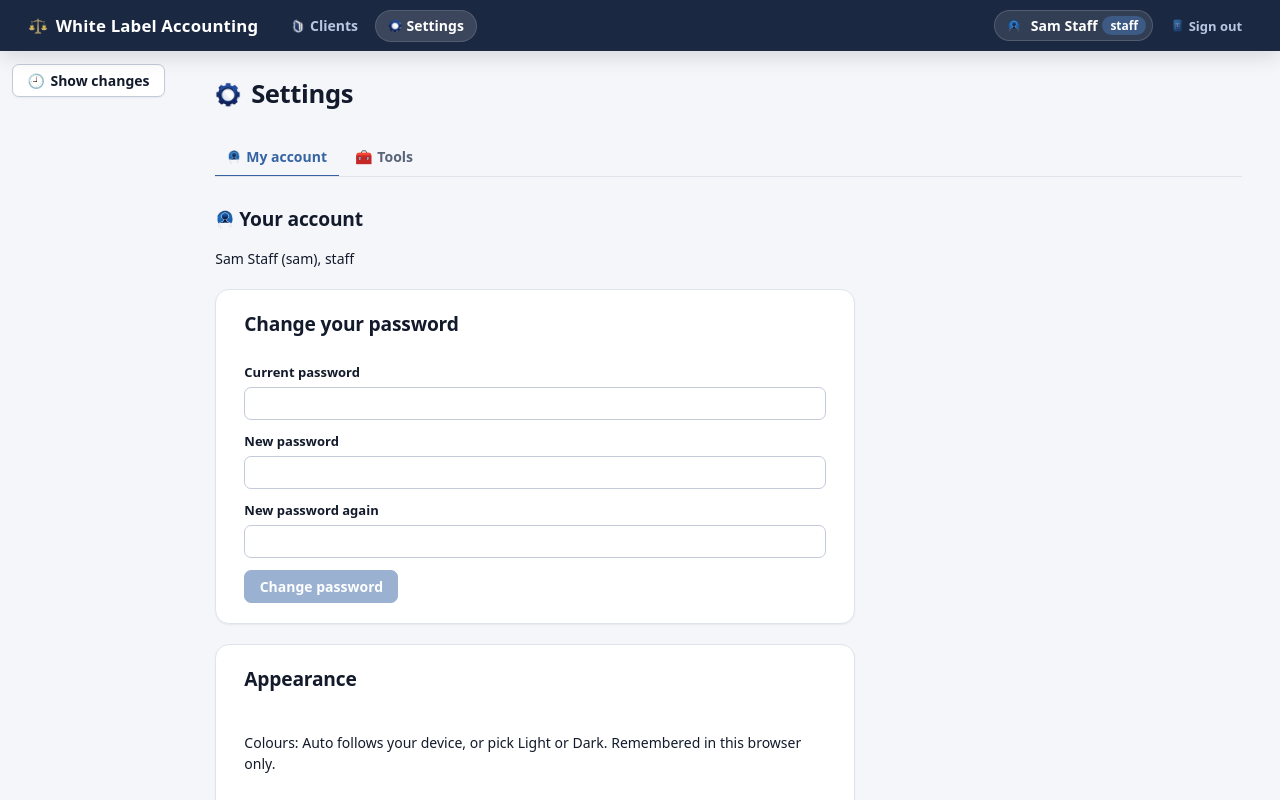
Test: an ended session › drops back to the sign-in page
Type "x" into the password field labelled "Current password" at x=535, y=403, box [244, 387, 826, 420]
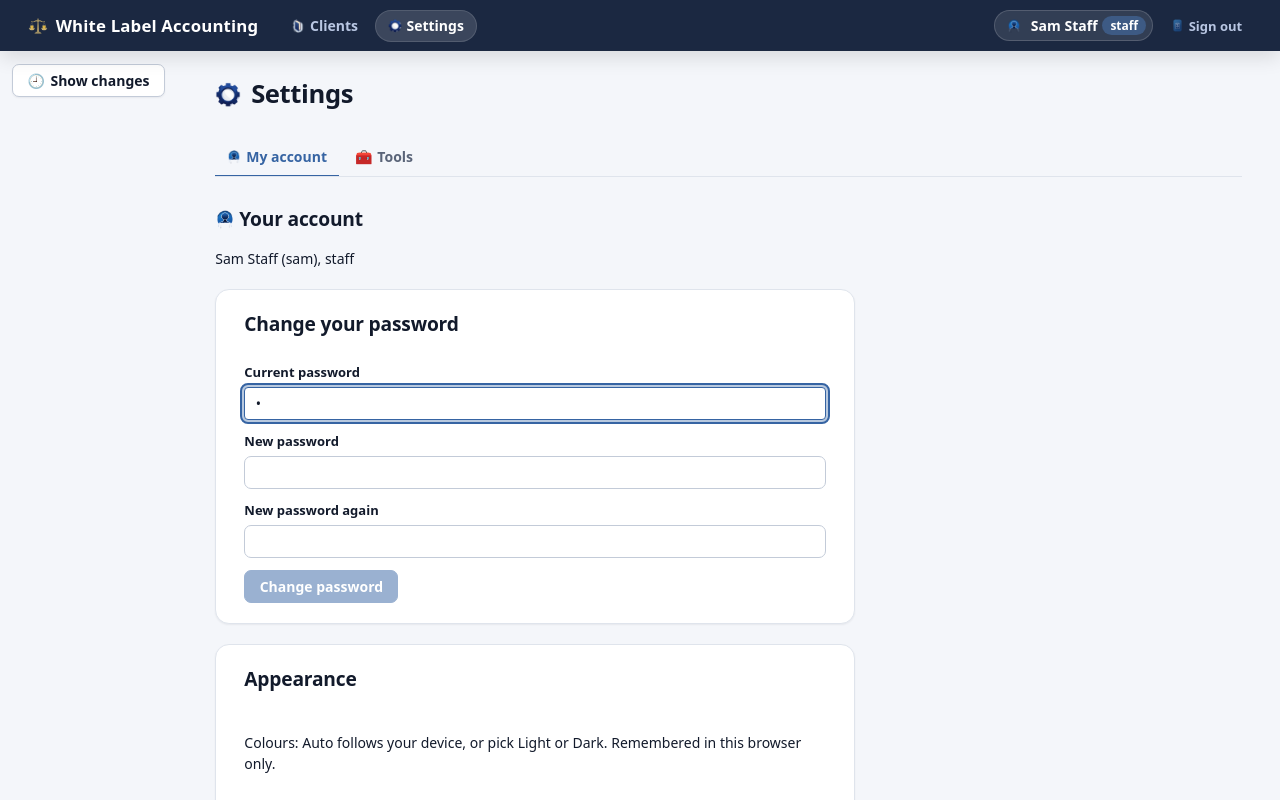
Type "y" into the password field labelled "New password" at x=535, y=473, box [244, 456, 826, 489]
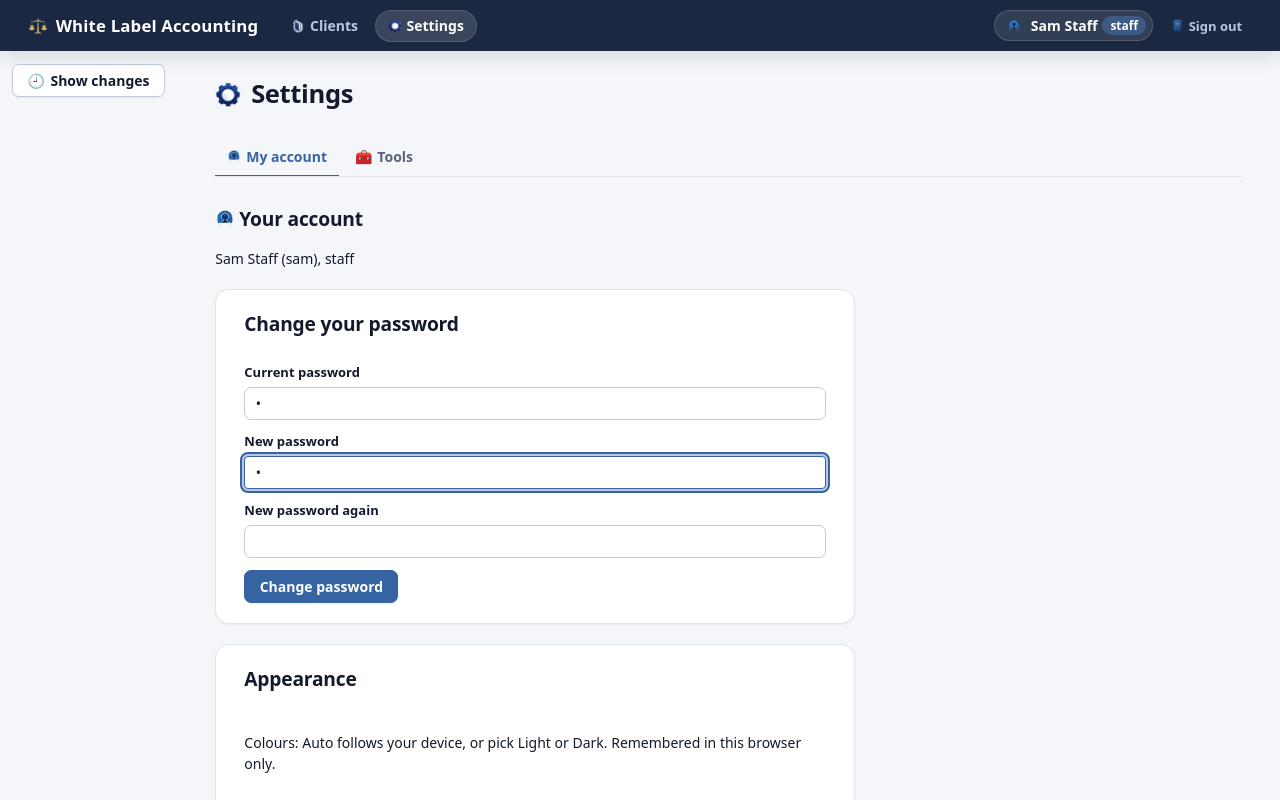
Type "y" into the password field labelled "New password again" at x=535, y=542, box [244, 525, 826, 558]
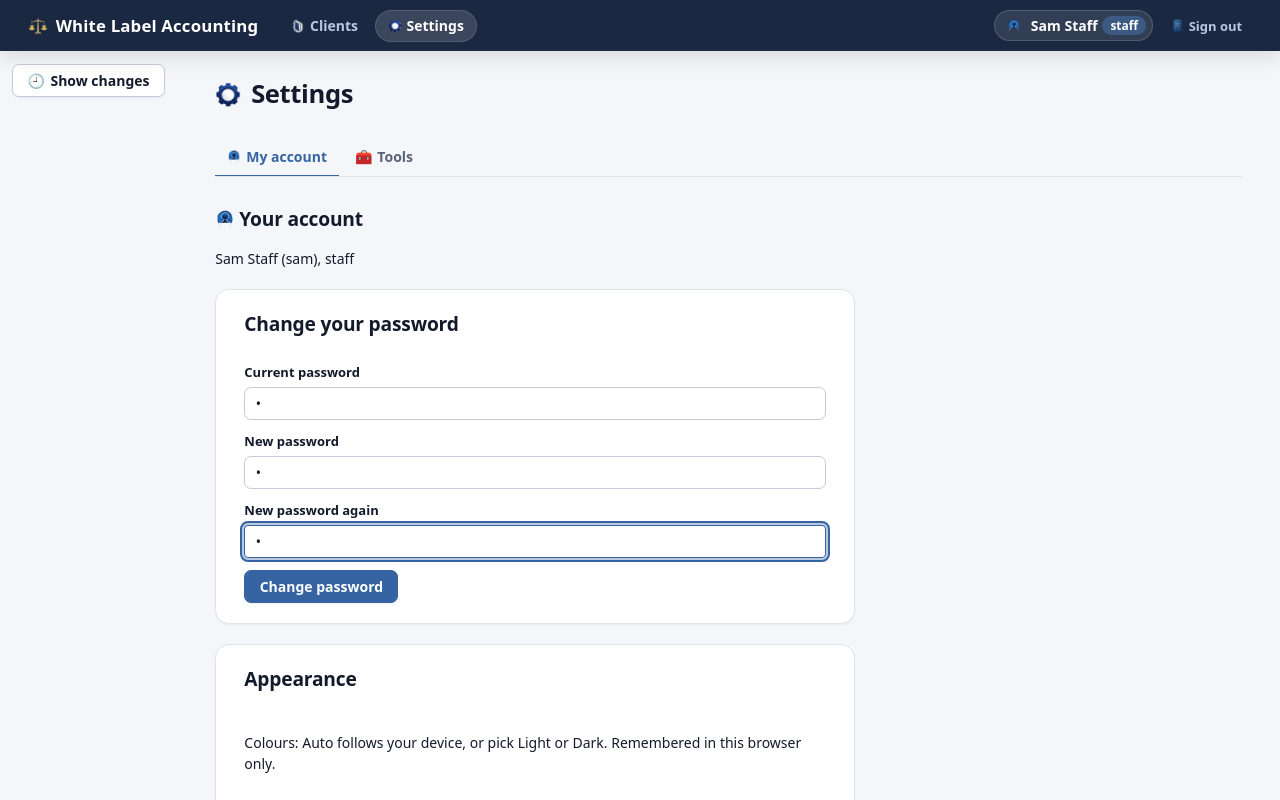
Click the button "Change password" at x=321, y=587, box [244, 570, 398, 603]
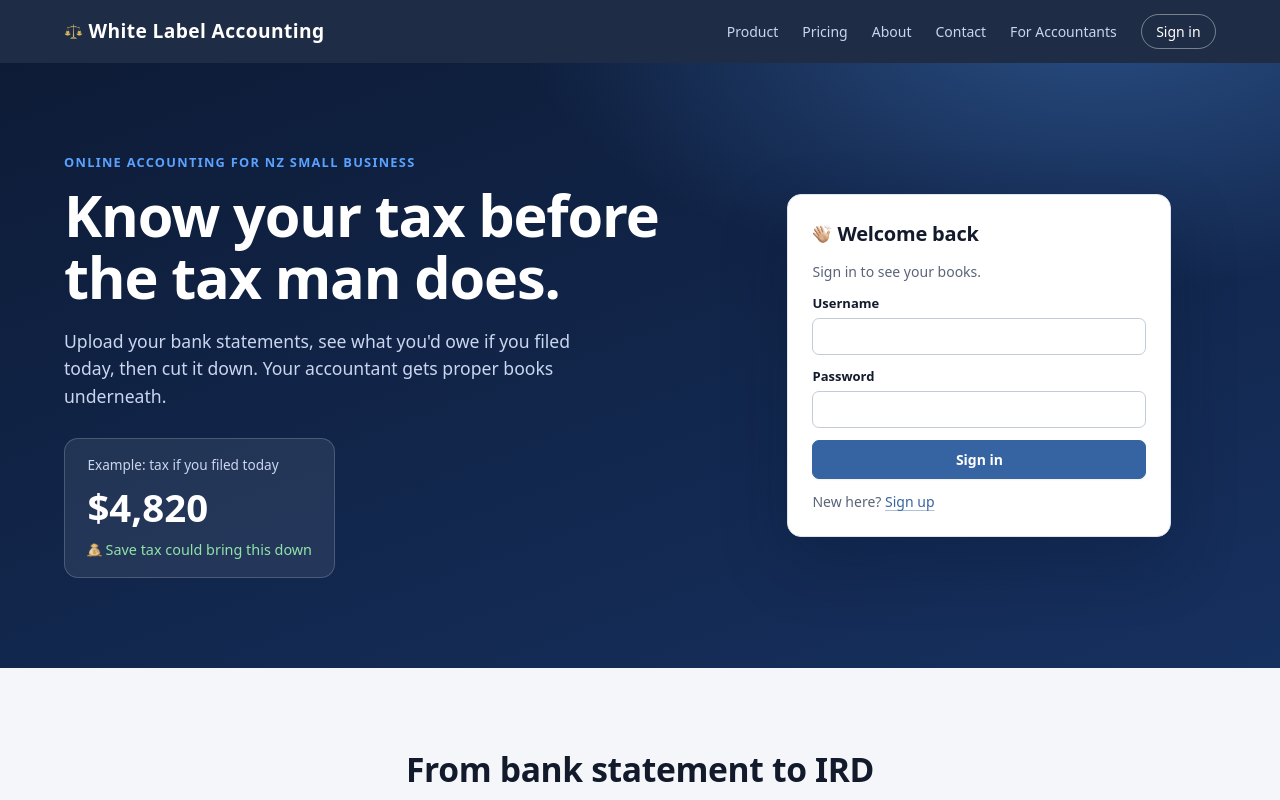
Expected: the button "Sign in" is shown, [812, 440, 1146, 479]
